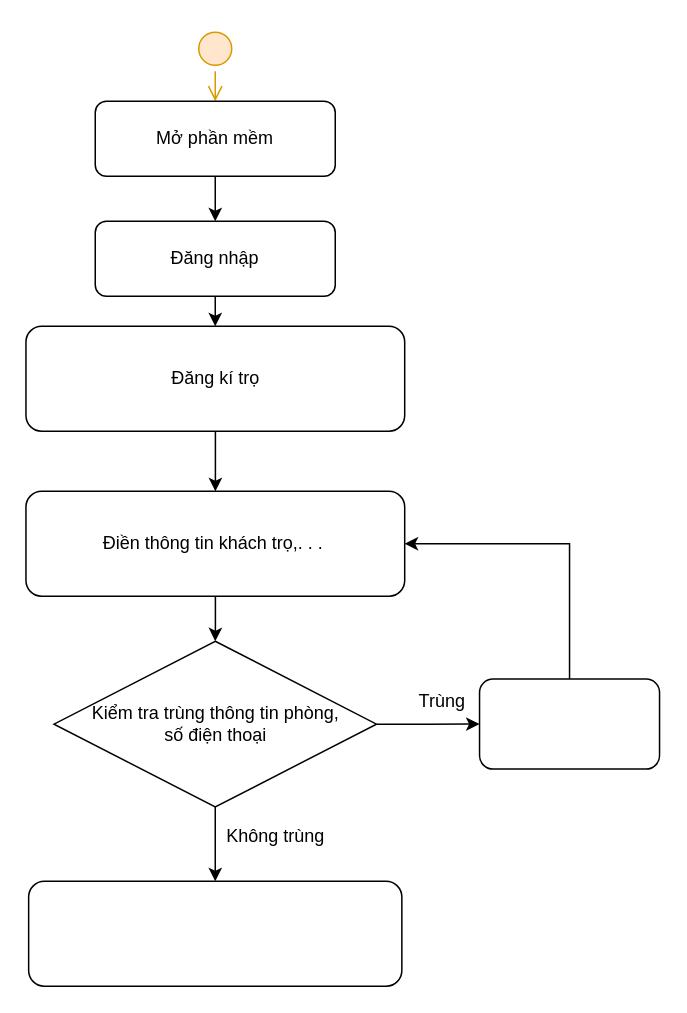
Some shapes in this 687 by 1013 pixel diagram are drawn without their labels. The shapes that lost their labels are listed below. From the top down, each one's box as (x1, y1, x2, y2) in pixels, then its label:
(478, 678, 660, 769): Thông báo lỗi
(27, 880, 402, 986): Lưu thông tin. Thông báo thành công
